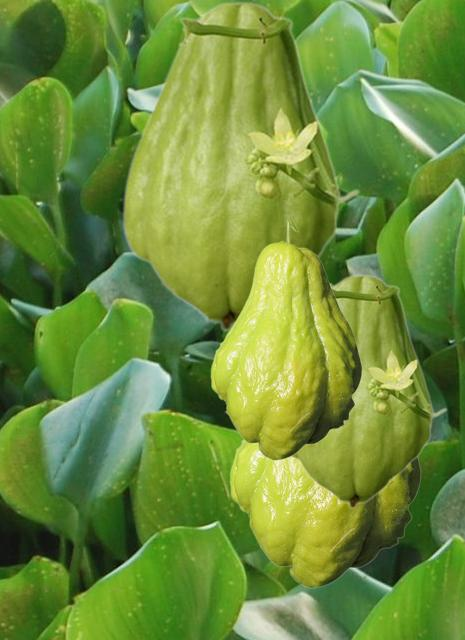sayote: (121, 1, 360, 331), (229, 282, 420, 587), (291, 274, 447, 508), (210, 218, 361, 459)
